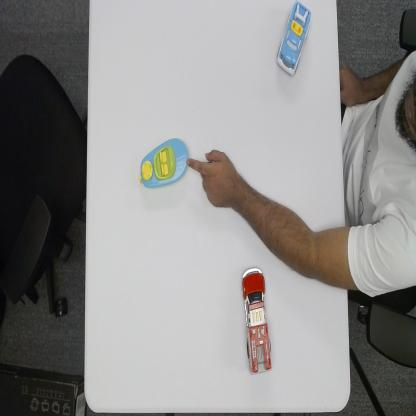Arm: (233, 178, 348, 281)
Boat: (139, 136, 188, 194)
Car: (276, 0, 312, 79)
Firetruck: (241, 267, 273, 376)
Hand: (187, 150, 234, 207)
